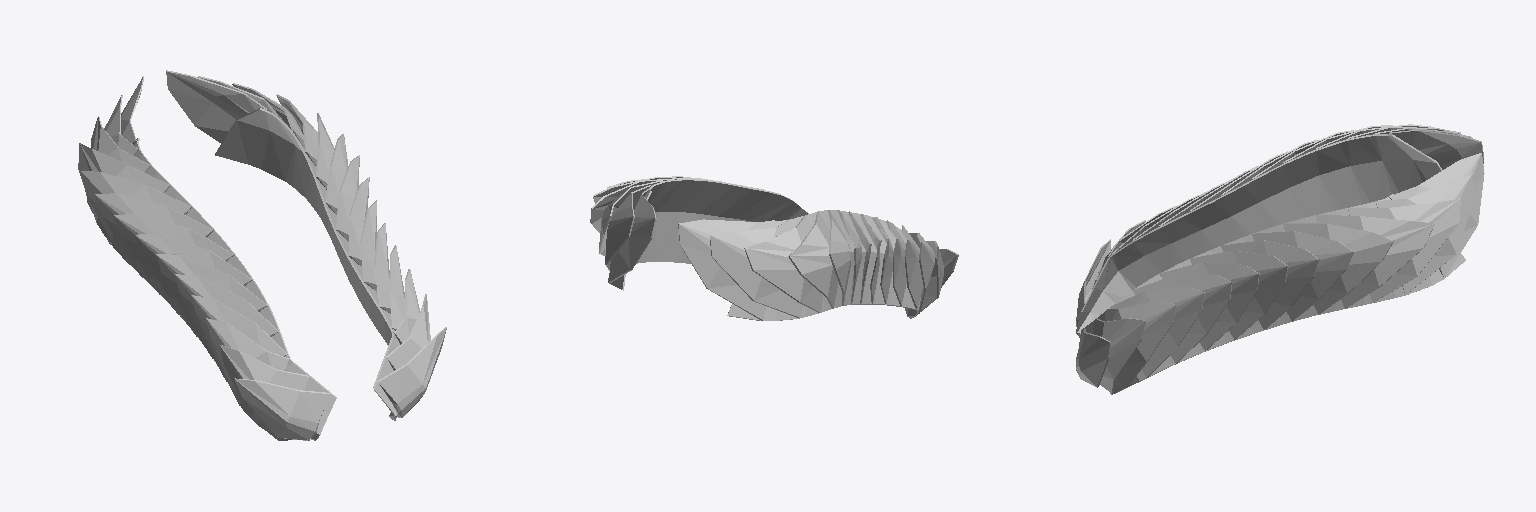
Rendered from armour-lvl2.obj.
3 renders of one model, left to right at view 1: azimuth 30°, elevation 25°; view 2: azimuth 150°, elevation 25°; view 3: azimuth 270°, elevation 25°, orthographic.
Parts seen in each view (by area): view 1: Plane.000_Plane.007; view 2: Plane.000_Plane.007; view 3: Plane.000_Plane.007.
Part boxes in pixels (x1,y1,x2,y2): Plane.000_Plane.007: (78, 70, 446, 440); Plane.000_Plane.007: (590, 176, 958, 320); Plane.000_Plane.007: (1076, 124, 1484, 394).
Bounding box in the file's own units: 5.12 × 4.29 × 7.28.